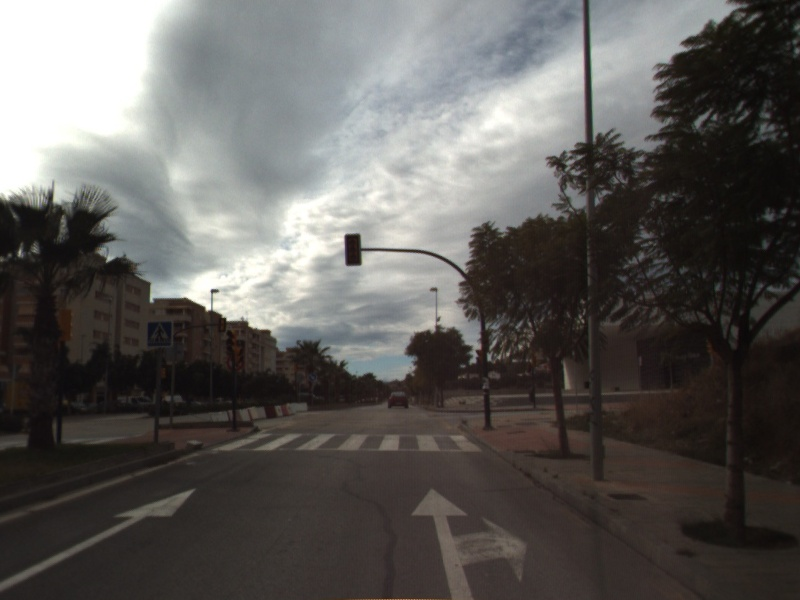STRAIGHT: (1, 486, 198, 594)
STRAIGHT_RIGHT: (408, 485, 530, 600)
